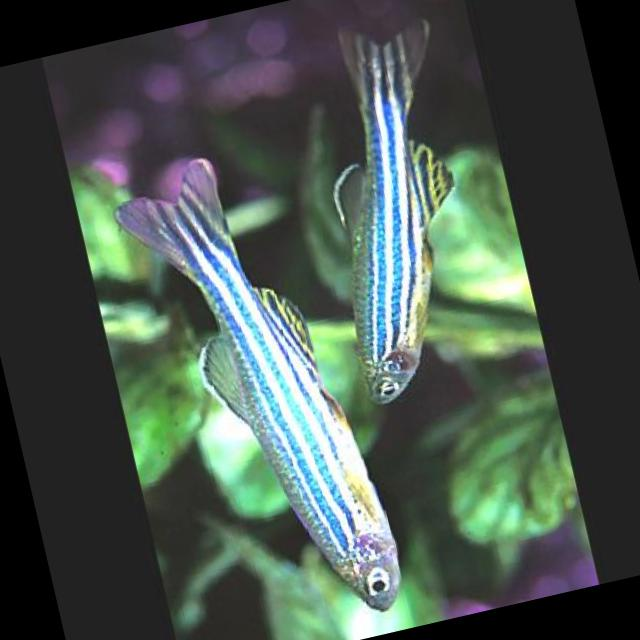ZebraFish: (101, 134, 408, 640), (284, 10, 516, 406)
